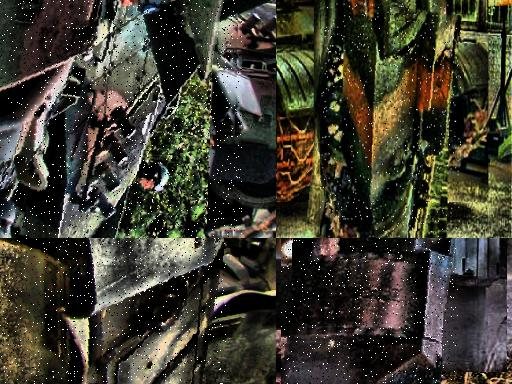tanks: (1, 1, 224, 229), (321, 5, 462, 239), (1, 239, 226, 384), (282, 239, 457, 384), (254, 212, 277, 239)
